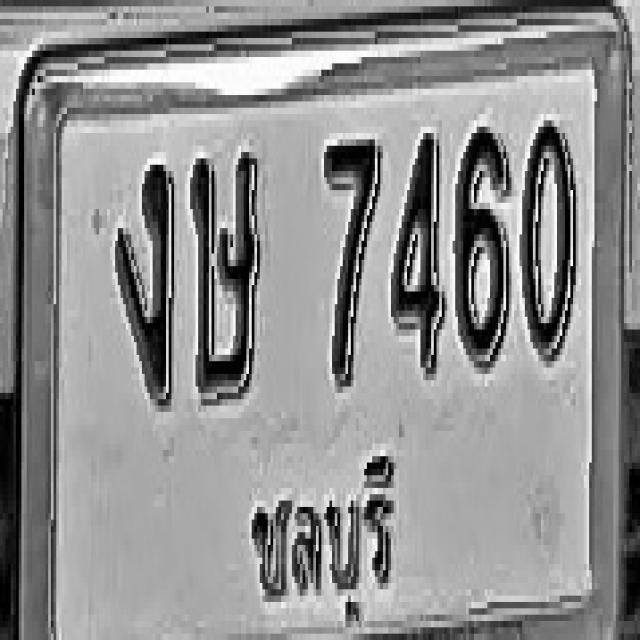0: (521, 114, 574, 361)
16NgorNgu: (115, 158, 174, 406)
4: (391, 127, 442, 374)
48SorRueSi: (190, 146, 260, 399)
6: (455, 120, 509, 368)
7: (323, 133, 379, 387)
Chonburi: (250, 430, 406, 640)
